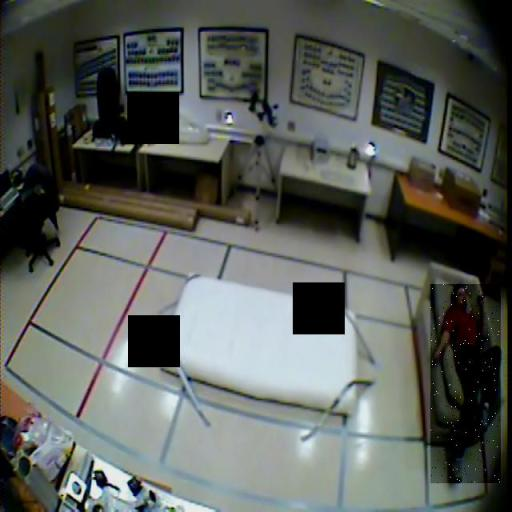Fall: (431, 284, 502, 483)
